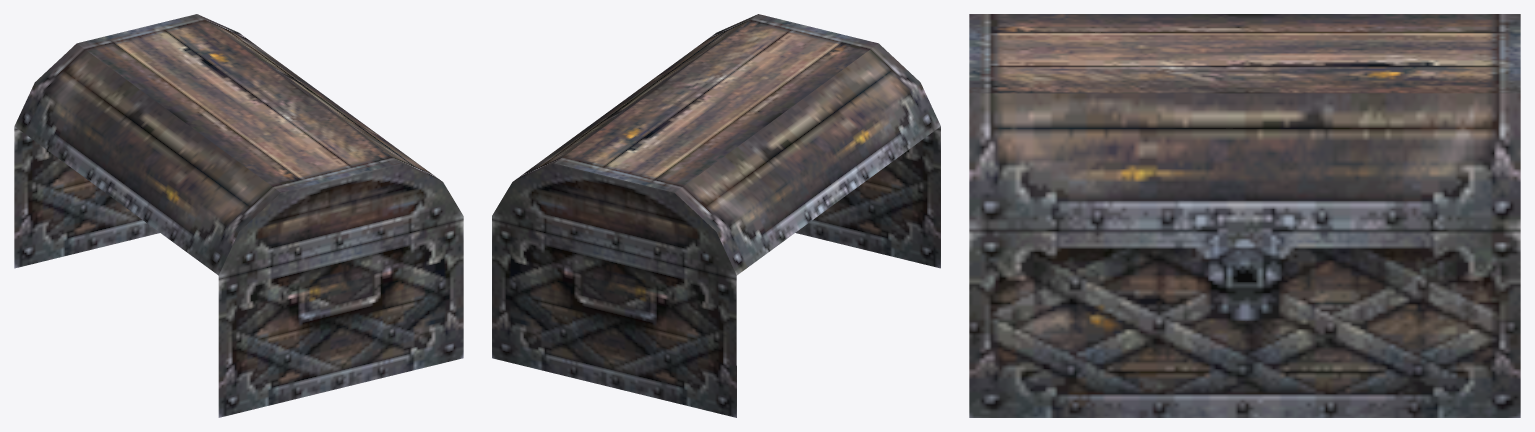
Rendered from ct_chest2.glb.
3 views of the same model, side by side, from view 1: azimuth 30°, elevation 25°; view 2: azimuth 150°, elevation 25°; view 3: azimuth 270°, elevation 25° (orthographic). The views are drawn at different scales.
Visible parts, largest first — view 1: ct_chest2-col; view 2: ct_chest2-col; view 3: ct_chest2-col.
Part boxes in pixels (x1=…): ct_chest2-col: x1=14, y1=14, x2=463, y2=417; ct_chest2-col: x1=492, y1=14, x2=940, y2=417; ct_chest2-col: x1=969, y1=14, x2=1520, y2=417.
Size of the model in its own units: 0.8253 by 0.6765 by 1.19.
Materials: 1 (1 with a texture image).
